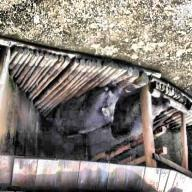boar: (46, 67, 128, 142), (117, 75, 182, 143)
